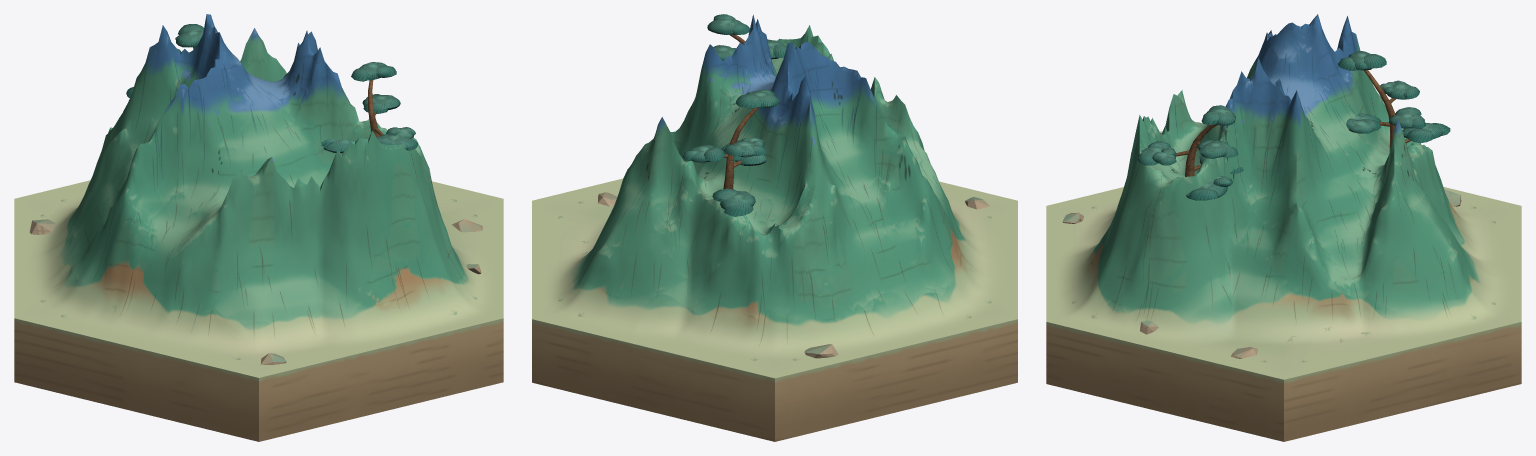
The model's file is Hex_Mountain.glb.
The picture shows the model from 3 angles, left to right: view 1: azimuth 30°, elevation 25°; view 2: azimuth 150°, elevation 25°; view 3: azimuth 270°, elevation 25°; orthographic projection. The views are drawn at different scales.
Parts seen in each view (by area): view 1: Hex_Mountain; view 2: Hex_Mountain; view 3: Hex_Mountain.
Boxes of the visible parts, x1,y1,x2,y2 form: Hex_Mountain: (14, 14, 503, 441); Hex_Mountain: (532, 14, 1017, 441); Hex_Mountain: (1046, 14, 1521, 441).
Bounding box in the file's own units: 8 × 4.75 × 6.93.
2 materials, 2 textured.
